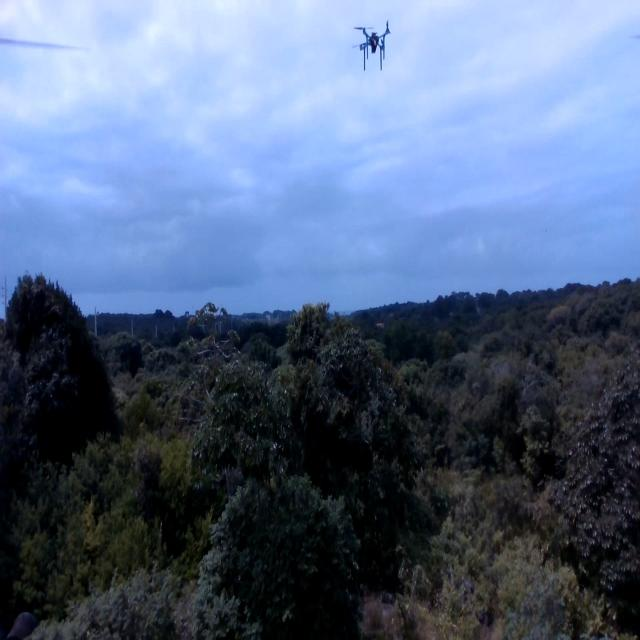-uav-: (349, 11, 396, 77)
